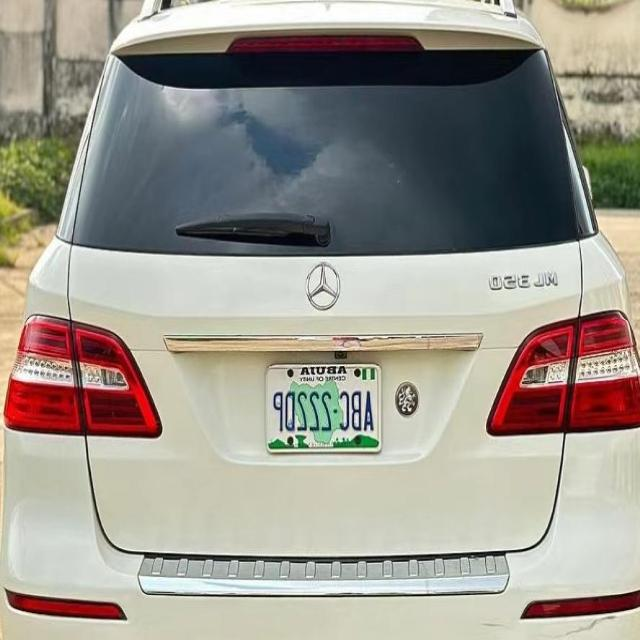Nigerian License Plate - vdataset benjamin-daria: (264, 358, 386, 459)
